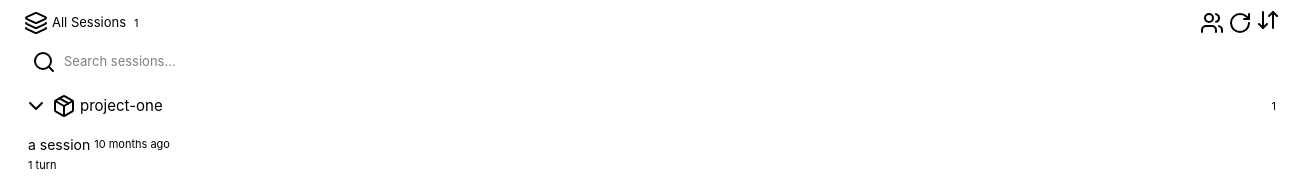
Test: SessionsNavigation: loads and renders › shows the empty state when search matches nothing
Type "zzz-no-match" into the field named "Search sessions" at {"x": 668, "y": 62}, box [64, 52, 1272, 72]
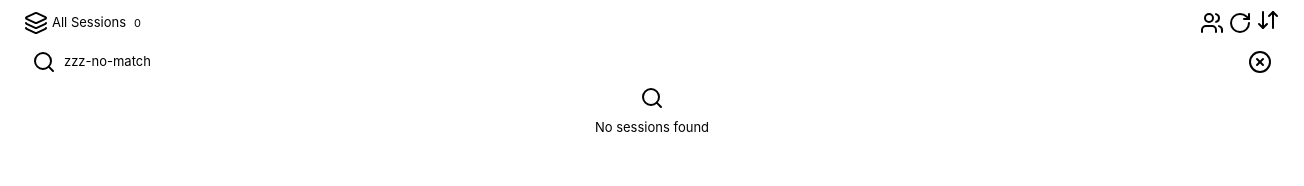
Expected: the text "No sessions found" is shown, [595, 118, 709, 138]
